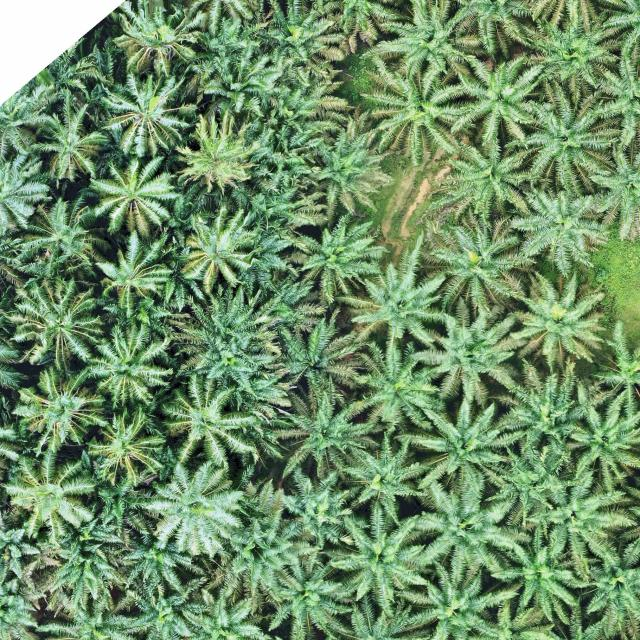Tree: (169, 284, 301, 410), (406, 472, 533, 595), (398, 388, 526, 502), (508, 74, 626, 196), (525, 468, 640, 586), (325, 494, 431, 616), (364, 52, 477, 165), (267, 376, 382, 486), (496, 269, 609, 380), (404, 302, 525, 405), (214, 503, 327, 612), (338, 258, 448, 368), (342, 328, 451, 438), (488, 352, 588, 468), (131, 459, 247, 559), (87, 62, 200, 162), (302, 106, 398, 223), (421, 211, 523, 321), (492, 522, 590, 634), (269, 300, 364, 412), (505, 179, 612, 278), (398, 556, 522, 640), (75, 314, 175, 418), (175, 194, 268, 305), (244, 0, 358, 90), (430, 134, 544, 224), (445, 45, 546, 145), (340, 424, 436, 528), (0, 444, 100, 543), (4, 275, 104, 373), (283, 212, 384, 307), (517, 8, 630, 90), (12, 188, 106, 286), (85, 223, 177, 322), (365, 0, 475, 82), (271, 460, 366, 554), (173, 109, 264, 204), (39, 530, 135, 615), (562, 401, 640, 505), (13, 365, 102, 455), (569, 528, 640, 640), (195, 42, 288, 124), (486, 444, 569, 533), (84, 156, 173, 238), (70, 465, 160, 546), (85, 406, 165, 487), (30, 102, 110, 183), (437, 0, 546, 59), (161, 381, 240, 462), (119, 575, 212, 640), (0, 142, 57, 245), (317, 591, 432, 640), (588, 135, 640, 242), (589, 43, 640, 151), (174, 586, 270, 640), (502, 0, 640, 36), (590, 314, 640, 412), (38, 595, 144, 640), (0, 510, 48, 593), (0, 574, 54, 640), (0, 383, 23, 495), (0, 308, 24, 410), (372, 0, 491, 18), (0, 219, 23, 291)
